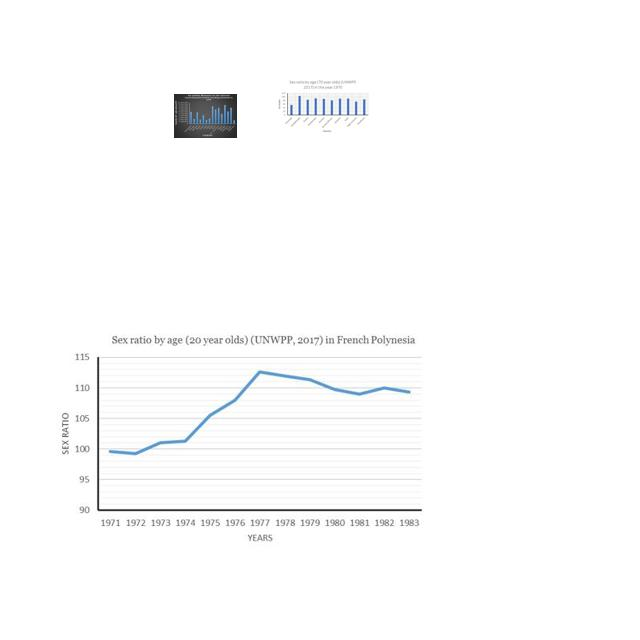Graph: (50, 327, 429, 551), (276, 79, 370, 134), (174, 94, 237, 138)
